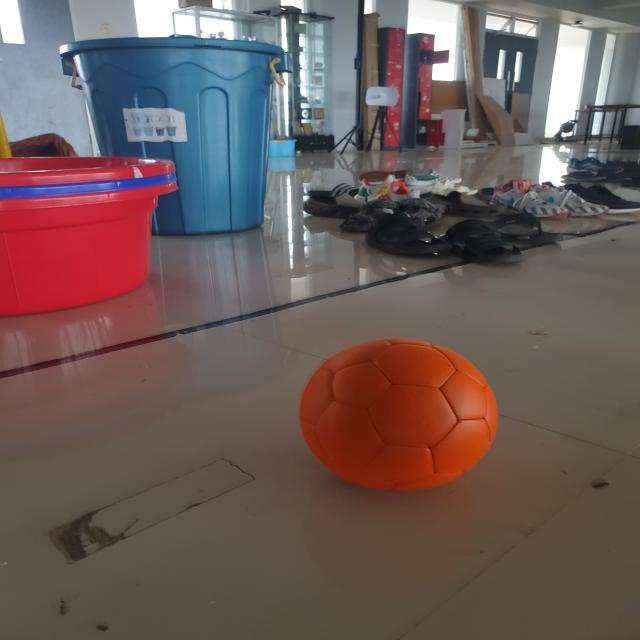bola: (286, 330, 504, 497)
